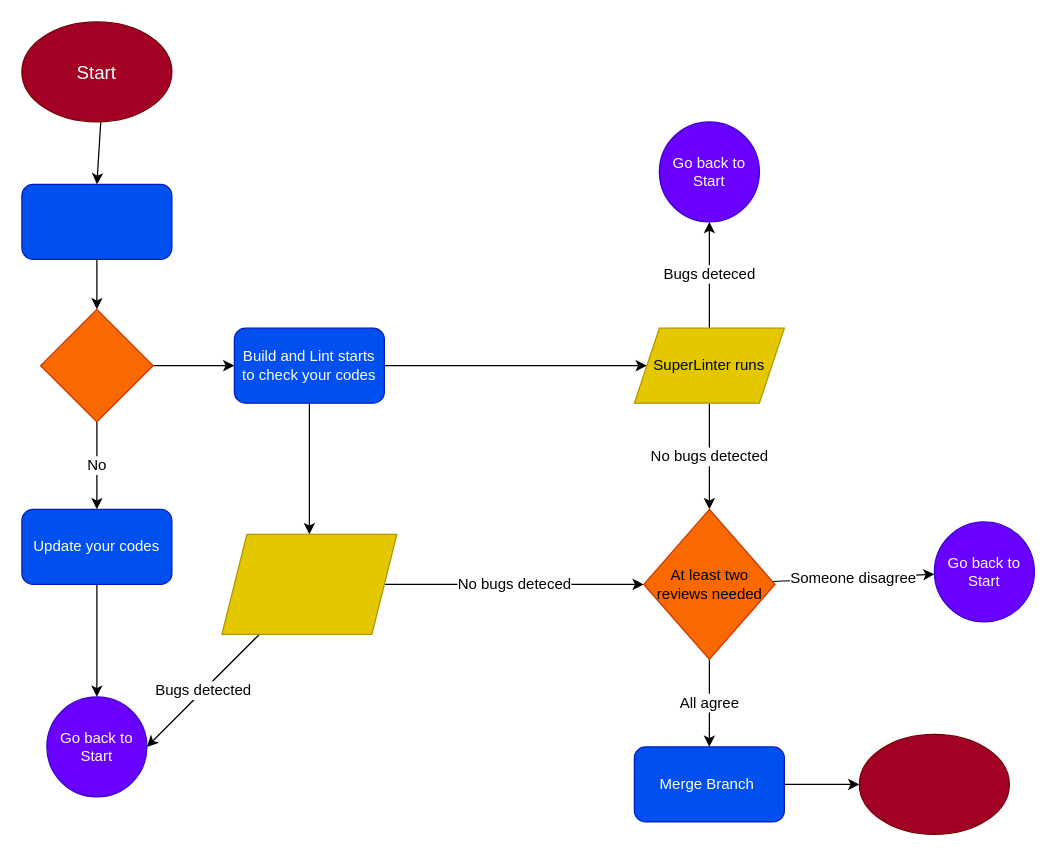
The diagram is 1056 pixels wide and 856 high, and some of its shapes have lost their labels. Each missing label, with the box of its shape:
Create Pull Request: (39, 308, 153, 422)
End: (858, 733, 1009, 834)
JSDocs and Jest runs: (221, 533, 397, 634)
Push changes to the remote branch: (21, 183, 172, 259)
